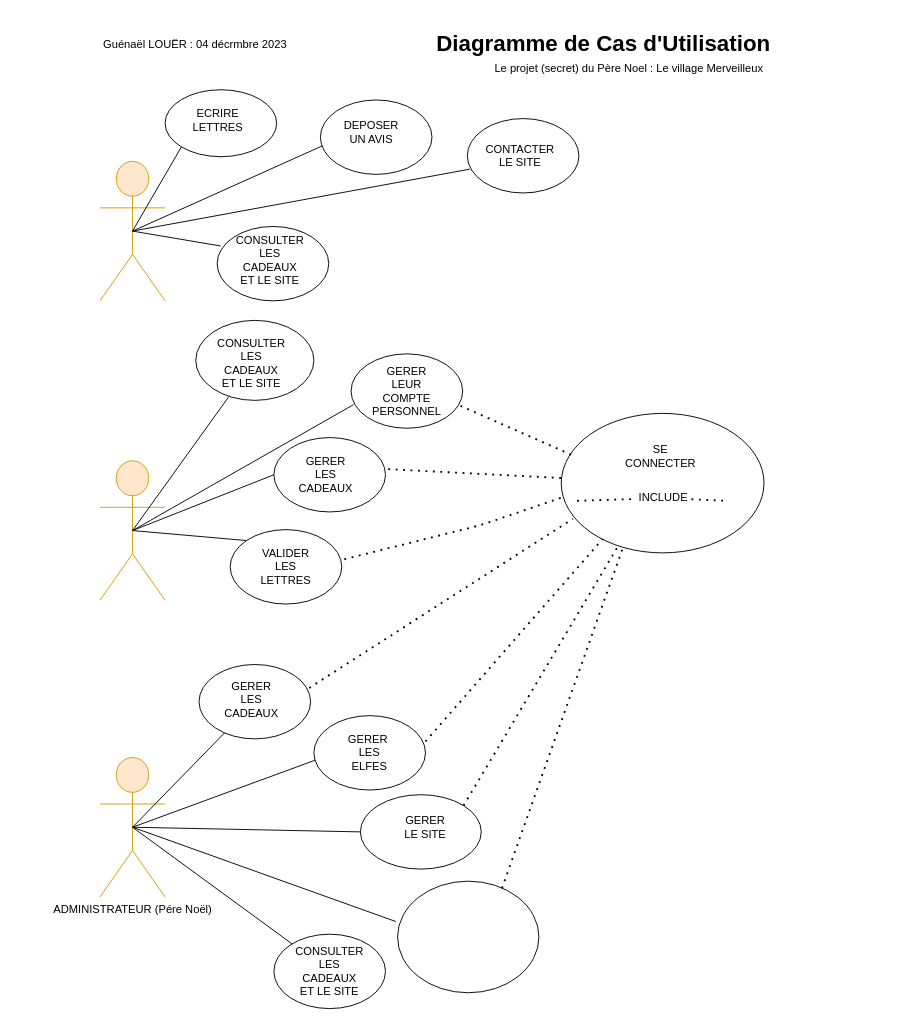
Image size: 913x1025. Some labels were removed from this diagram. The shapes that lost their labels are listed below. From the top down, each one's centre as x and y in pixels, then its label:
At point 132,230: "UTILISATEURS".
At point 132,530: "ELFES".
At point 468,936: "PRENDRE CONNAISSANCE DES LETTRES DES ENFANTS ET LEUR REPONDRE".
